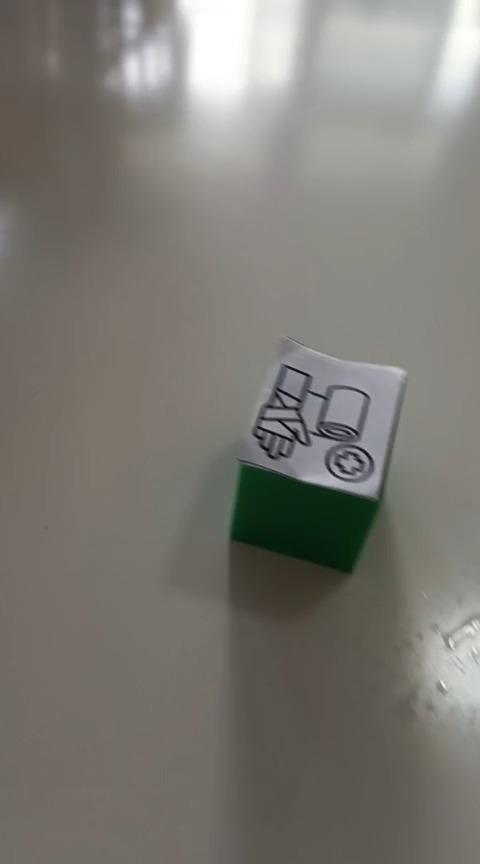Bandages: (228, 333, 408, 574)
